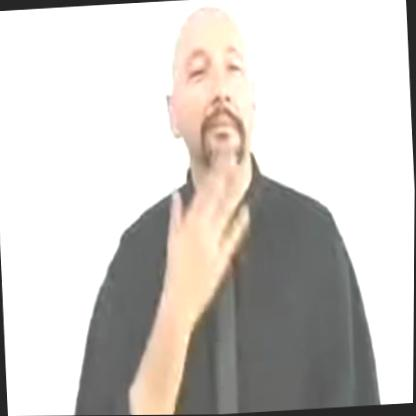ThankYou: (107, 0, 362, 415)
